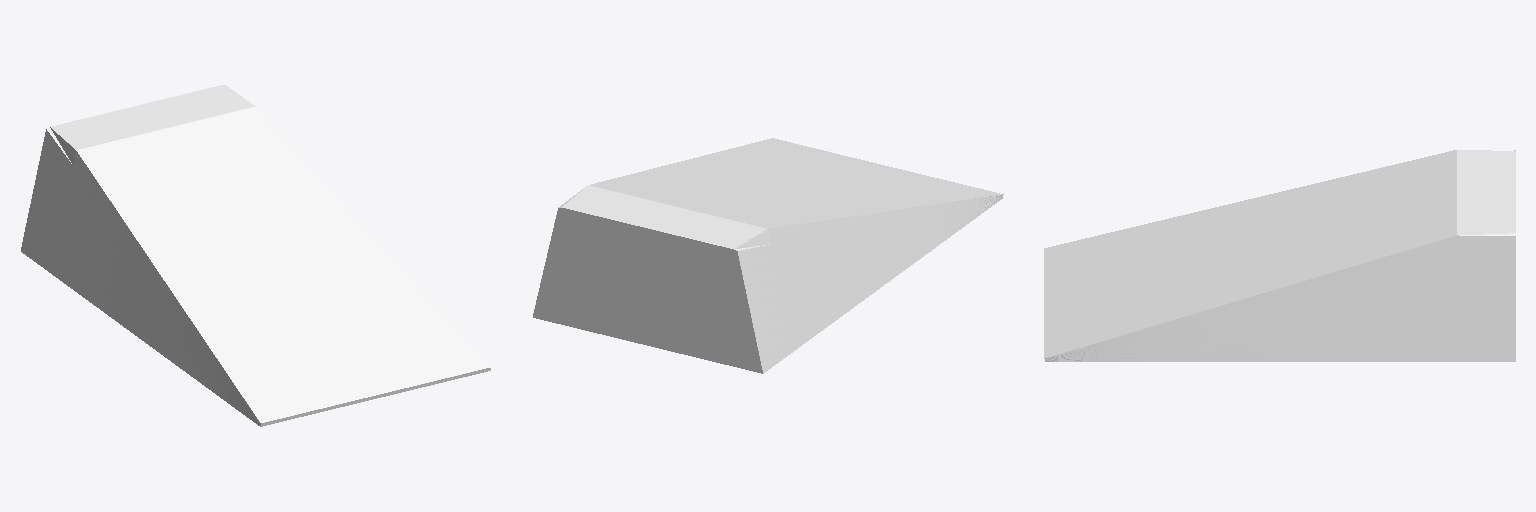
The robot description file, URDF, robot "ramp":
<?xml version="1.0" ?>
<robot name="ramp">
  <link name="rampLink">
  <contact>
      <lateral_friction value="1"/>
  </contact>
    <inertial>
      <origin rpy="0 0 0" xyz="0 0 0.1"/>
       <mass value="0"/>
       <inertia ixx="0.0" ixy="0" ixz="0" iyy="0.0" iyz="0" izz="0.0"/>
    </inertial>
    <visual>
      <origin rpy="0 0 0" xyz="0 0 0"/>
      <geometry>
				<mesh filename="meshes/ramp.obj" scale="1 1 1"/>
      </geometry>
       <material name="white">
        <color rgba="1 1 1 1"/>
      </material>
    </visual>
    <collision>
      <origin rpy="0 0 0" xyz="0 0 0"/>
      <geometry>
	 	    <mesh filename="meshes/ramp.obj" scale="1 1 1"/>
      </geometry>
    </collision>
  </link>
</robot>


--- Facts derived from the render (not from the file) ---
Views: 3 orthographic renders of the robot side by side, from view 1: azimuth 30°, elevation 25°; view 2: azimuth 150°, elevation 25°; view 3: azimuth 270°, elevation 25°.
Robot: ramp — 1 links, 0 joints (none); root link rampLink; default pose: every joint at zero.
Visible links, largest first — view 1: rampLink; view 2: rampLink; view 3: rampLink.
Link boxes in pixels (x1,y1,x2,y2): rampLink: (21,85,490,426); rampLink: (533,138,1003,373); rampLink: (1044,150,1515,361).
Size in the robot's own frame: 0.3997 by 0.721 by 0.1941 metres.
Meshes: 1 distinct files referenced, 1 mesh visuals loaded (1 OBJ).